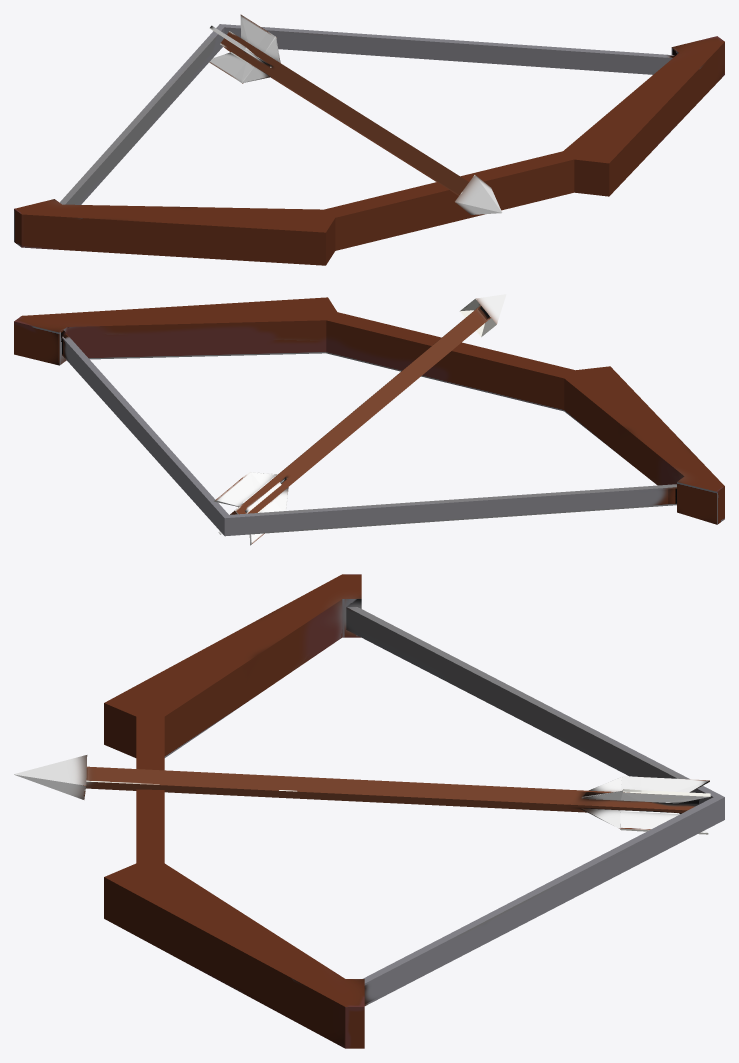
Rendered from BowArrow.dae.
3 views of the same model, one above another, from view 1: azimuth 30°, elevation 25°; view 2: azimuth 150°, elevation 25°; view 3: azimuth 270°, elevation 25° (orthographic). The views are drawn at different scales.
Parts seen in each view (by area): view 1: Cube, Cube.001; view 2: Cube, Cube.001; view 3: Cube, Cube.001.
Part boxes in pixels (box(x1,y1,x2,y2)): Cube: box(14, 24, 724, 265); Cube.001: box(209, 14, 502, 214); Cube: box(14, 297, 724, 536); Cube.001: box(214, 294, 506, 545); Cube: box(104, 574, 724, 1048); Cube.001: box(14, 755, 710, 834).
Bounding box in the file's own units: 1.59 × 1.1 × 0.1353.
Materials: 2 (2 with a texture image).
